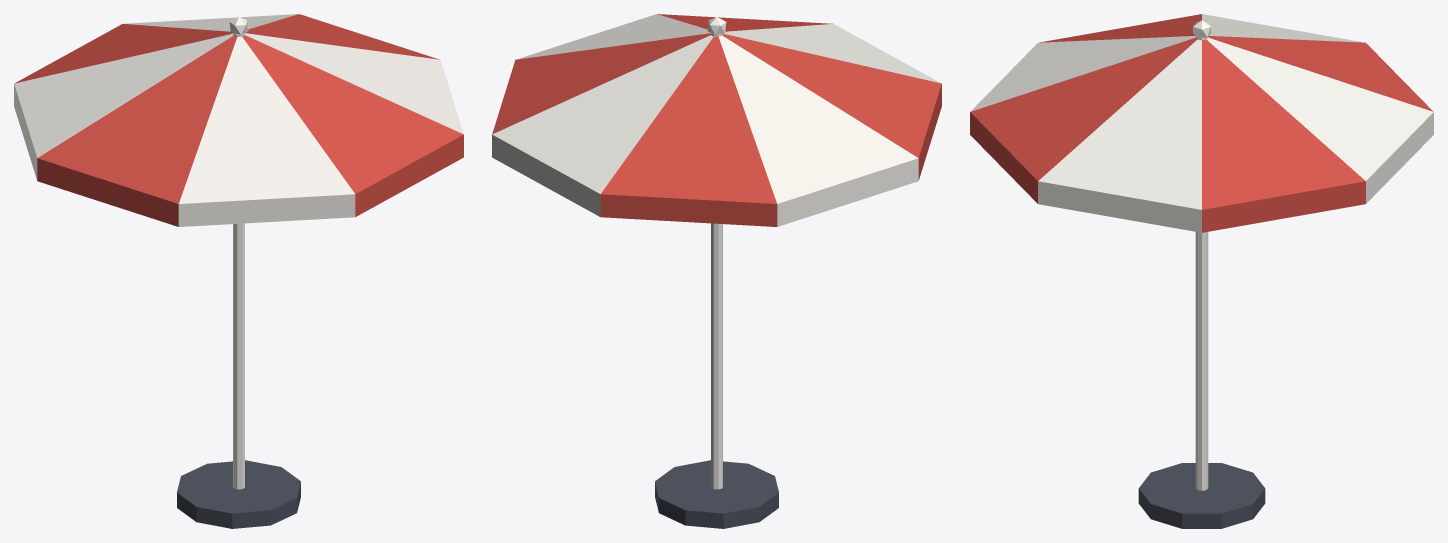
The model's file is parasol.glb.
3 views of the same model, side by side, from view 1: azimuth 30°, elevation 25°; view 2: azimuth 150°, elevation 25°; view 3: azimuth 270°, elevation 25° (orthographic).
Parts seen in each view (by area): view 1: parasol; view 2: parasol; view 3: parasol.
Boxes of the visible parts, <box> form: parasol: <box>14,14,463,528</box>; parasol: <box>492,14,941,528</box>; parasol: <box>970,14,1433,528</box>.
Size of the model in its own units: 2.2 by 2.53 by 2.2.
